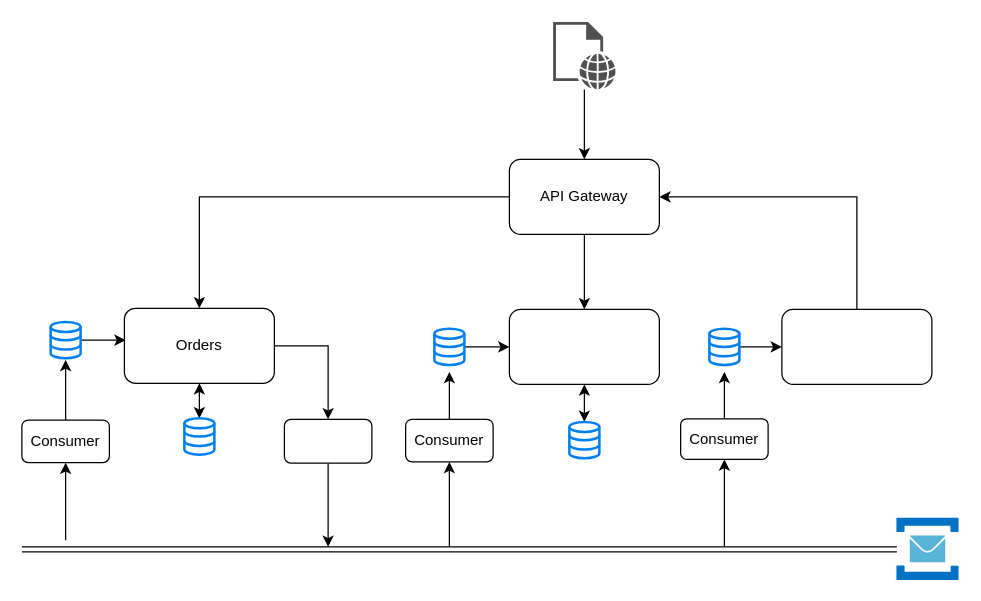
This 981x601 diagram has some shape labels left out. The centre of each missing label's shape, as x and y in pixels:
"Logistics" belongs at point (583, 346).
"Producer" belongs at point (327, 440).
"Reporting" belongs at point (856, 346).
